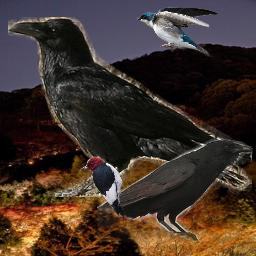Crow: (8, 17, 252, 197), (97, 138, 253, 242)
Swallow: (136, 6, 219, 57)
Woodpecker: (77, 156, 128, 220)
